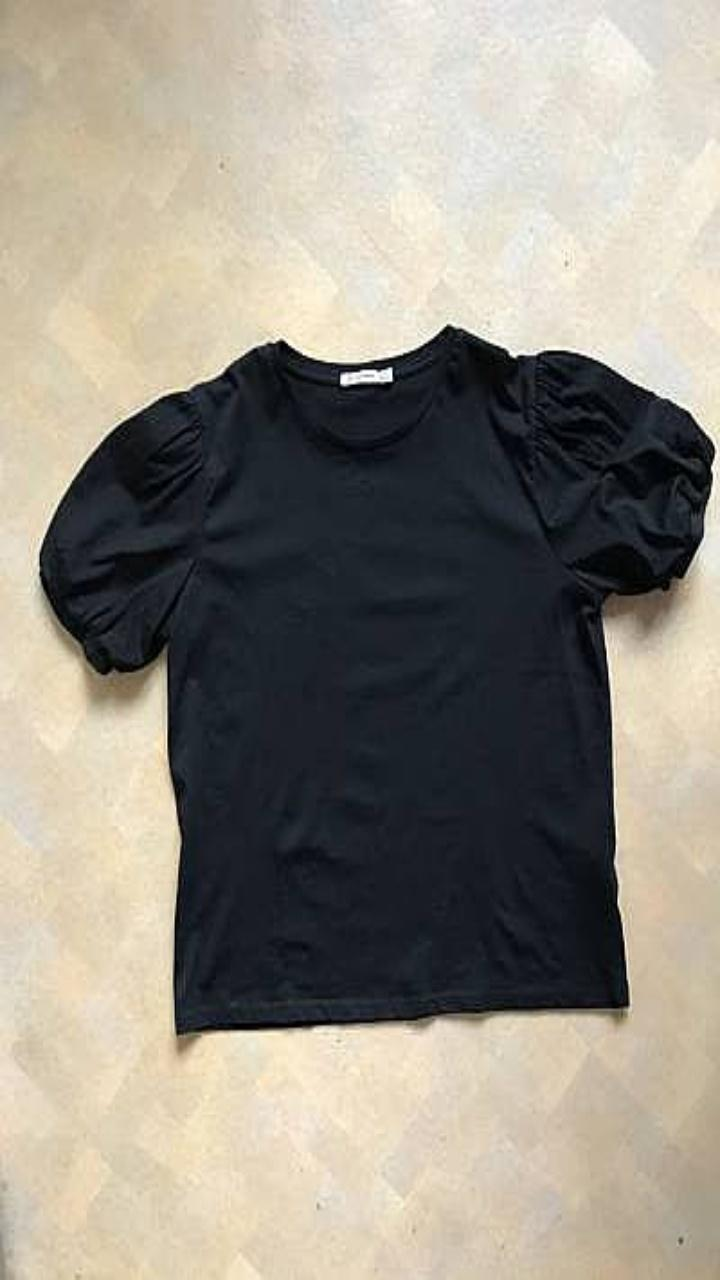T-Shirt: (39, 325, 714, 1032)
